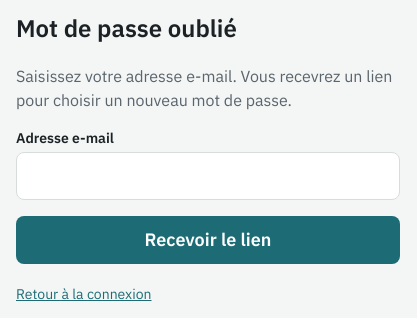
account links and forgotten password (D1, D4, D5) › D5_forgottenPasswordSendsTheEmailWithTheAltchaProofAndAlwaysConfirms
The width and height of the screenshot is (417, 318).
Type "amina@example.dz" into the field labelled "Adresse e-mail".
click(208, 176); type("amina@example.dz")  # box [16,152,400,200]
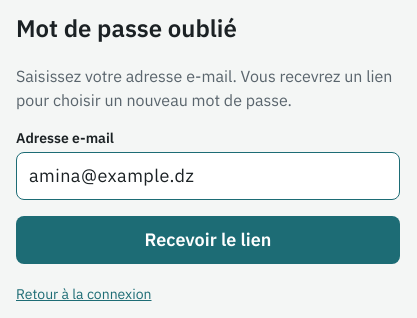
Click the button "Recevoir le lien".
click(208, 240)  # box [16,216,400,264]
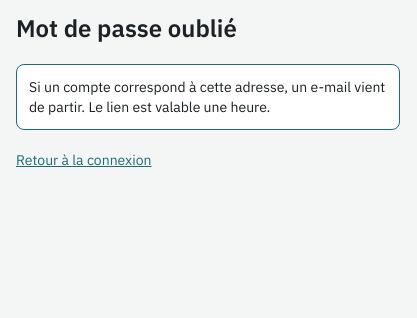
expect the message shows "Si un compte correspond à cette adresse": met, box [29,78,385,116]
